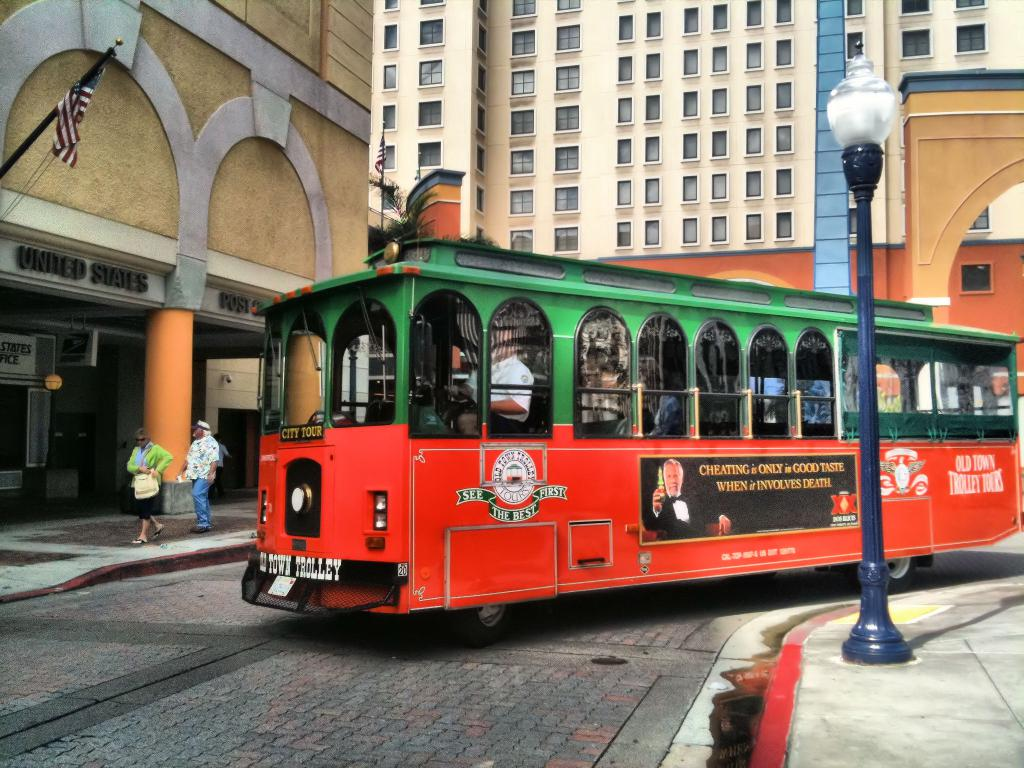Bus: (240, 219, 1024, 641)
